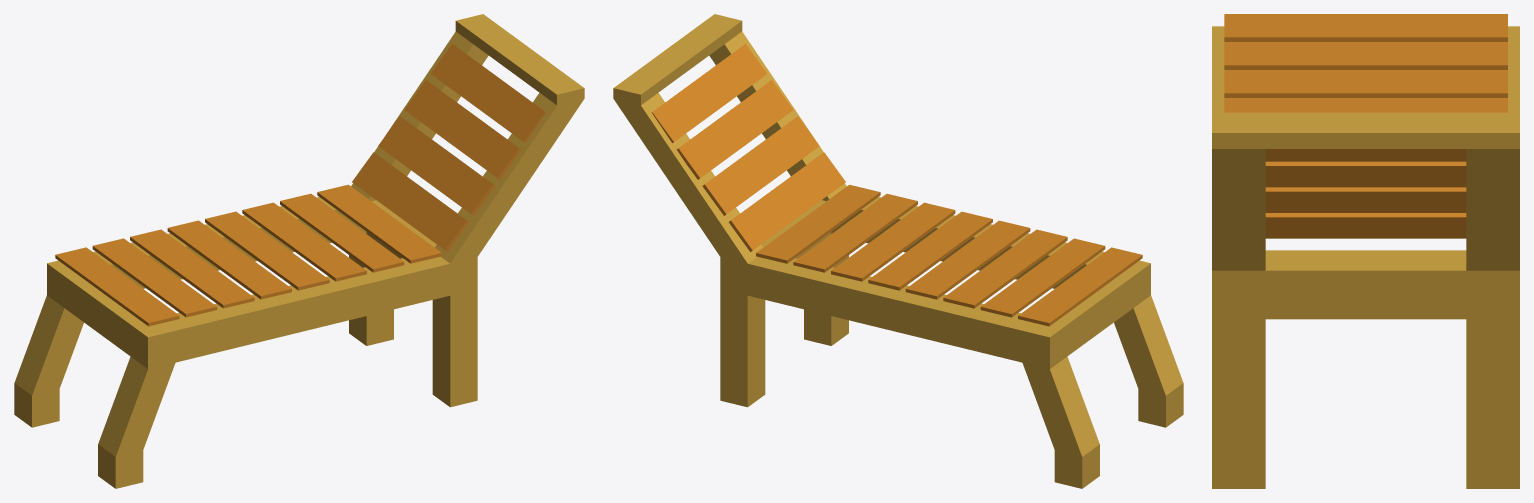
The model's file is sunchair.fbx.
The picture shows the model from 3 angles, left to right: view 1: azimuth 30°, elevation 25°; view 2: azimuth 150°, elevation 25°; view 3: azimuth 270°, elevation 25°; orthographic projection. The views are drawn at different scales.
Parts seen in each view (by area): view 1: Cube, Cube.002; view 2: Cube, Cube.002; view 3: Cube, Cube.002.
Part boxes in pixels (bbox=[...]): Cube: bbox=[14, 14, 584, 488]; Cube.002: bbox=[55, 44, 545, 326]; Cube: bbox=[613, 14, 1183, 488]; Cube.002: bbox=[651, 44, 1142, 326]; Cube: bbox=[1212, 26, 1519, 488]; Cube.002: bbox=[1224, 14, 1507, 238].
Size of the model in its own units: 106 by 61.69 by 39.53.
